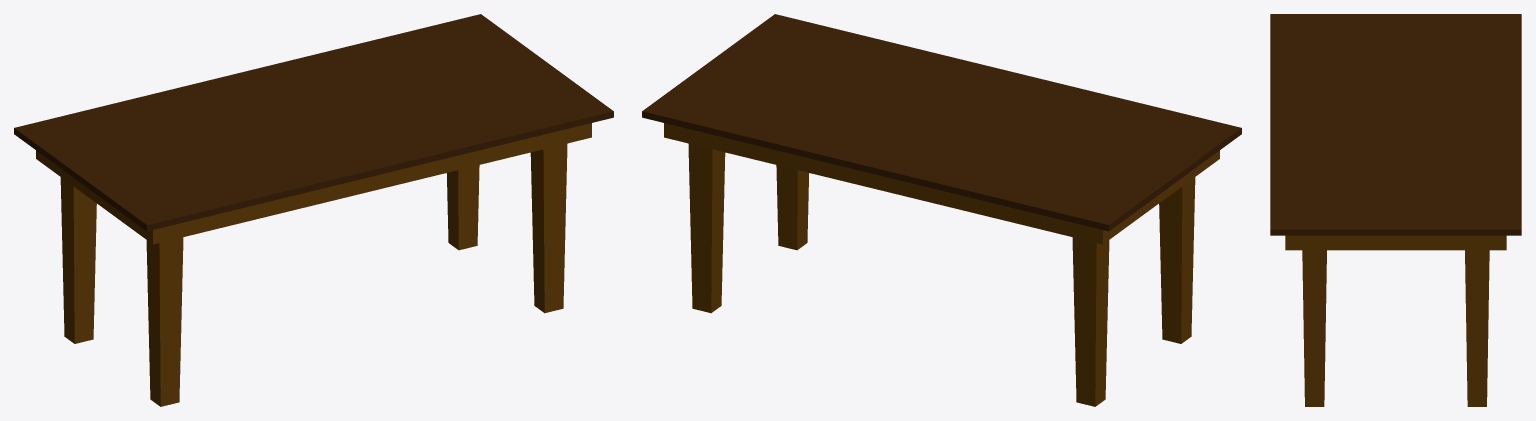
Rendered from dine_table_01.glb.
3 views of the same model, side by side, from view 1: azimuth 30°, elevation 25°; view 2: azimuth 150°, elevation 25°; view 3: azimuth 270°, elevation 25° (orthographic). The views are drawn at different scales.
Parts seen in each view (by area): view 1: Plane; view 2: Plane; view 3: Plane.
Part boxes in pixels (x1,y1,x2,y2): Plane: [14, 14, 613, 406]; Plane: [642, 14, 1241, 406]; Plane: [1270, 14, 1521, 406].
Size of the model in its own units: 1.84 by 0.7642 by 0.9064.
1 material, 1 textured.
